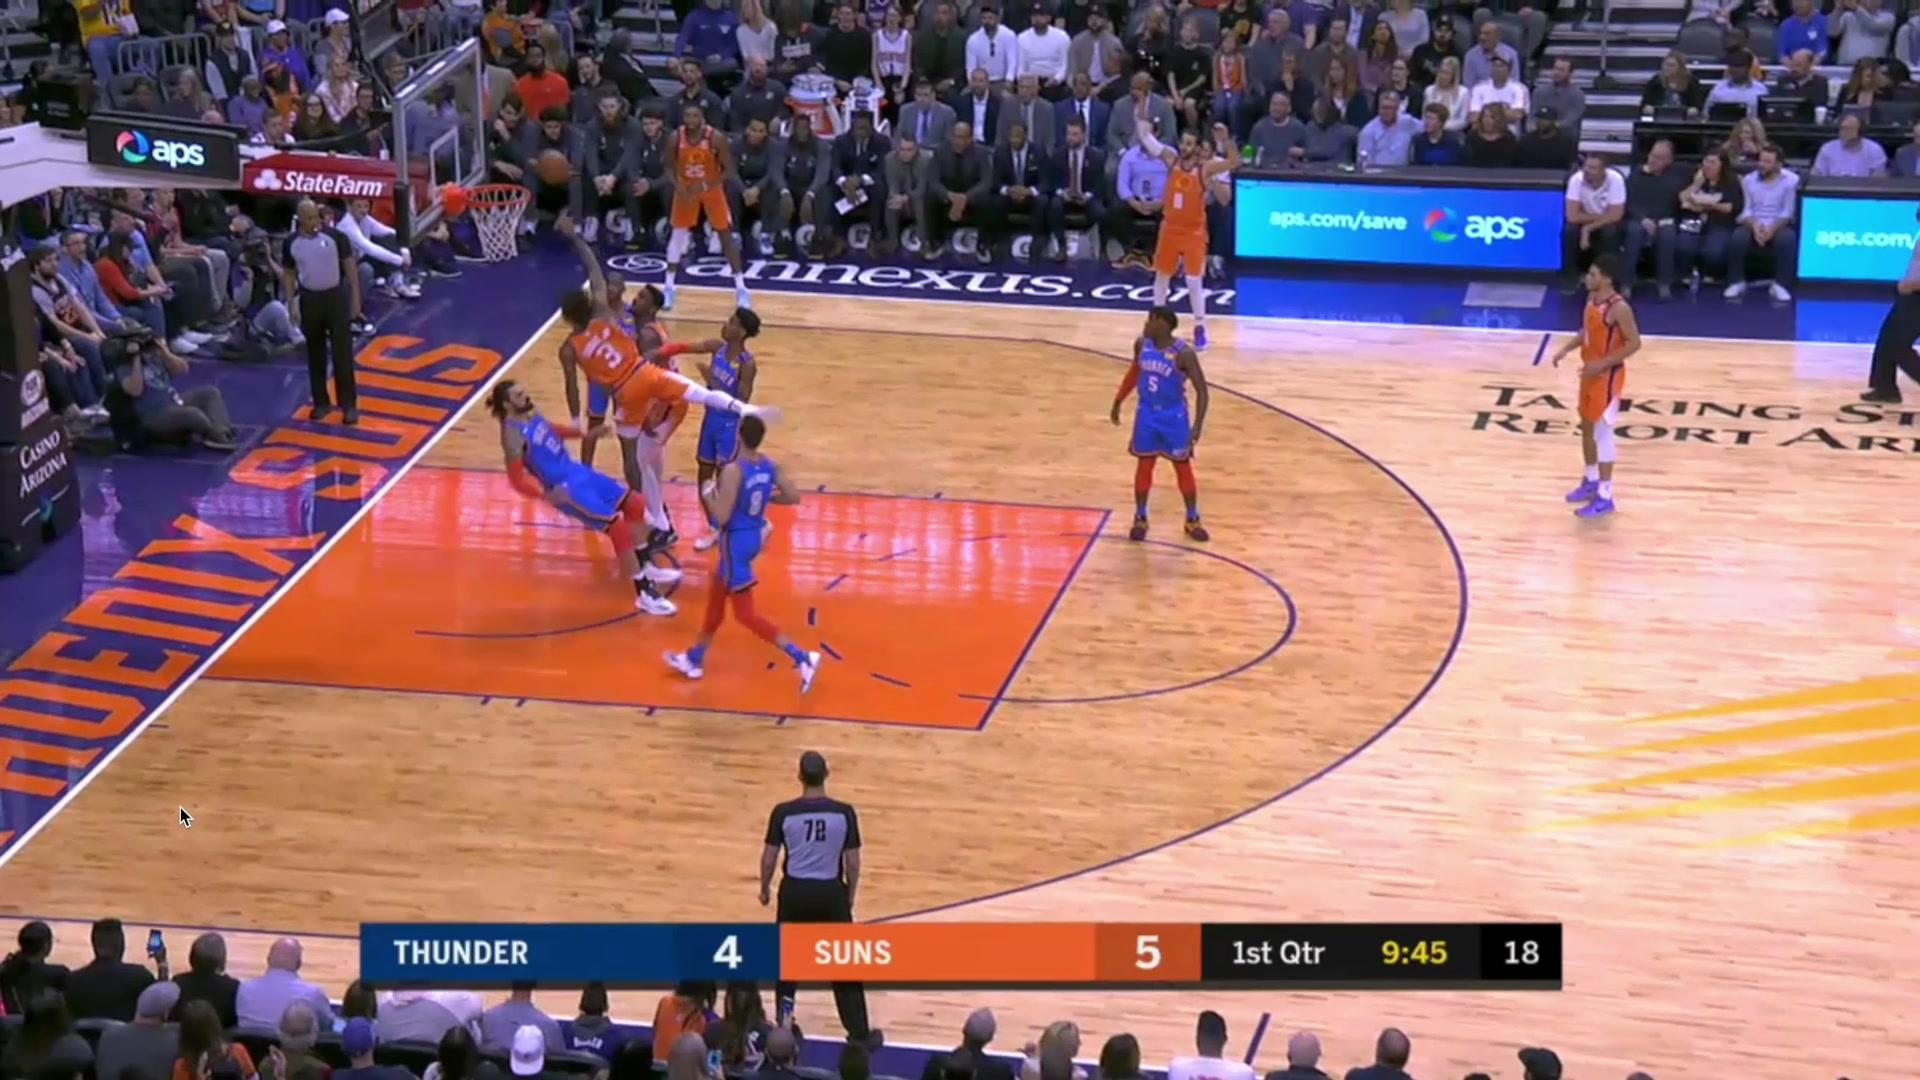foul: (481, 298, 662, 620)
